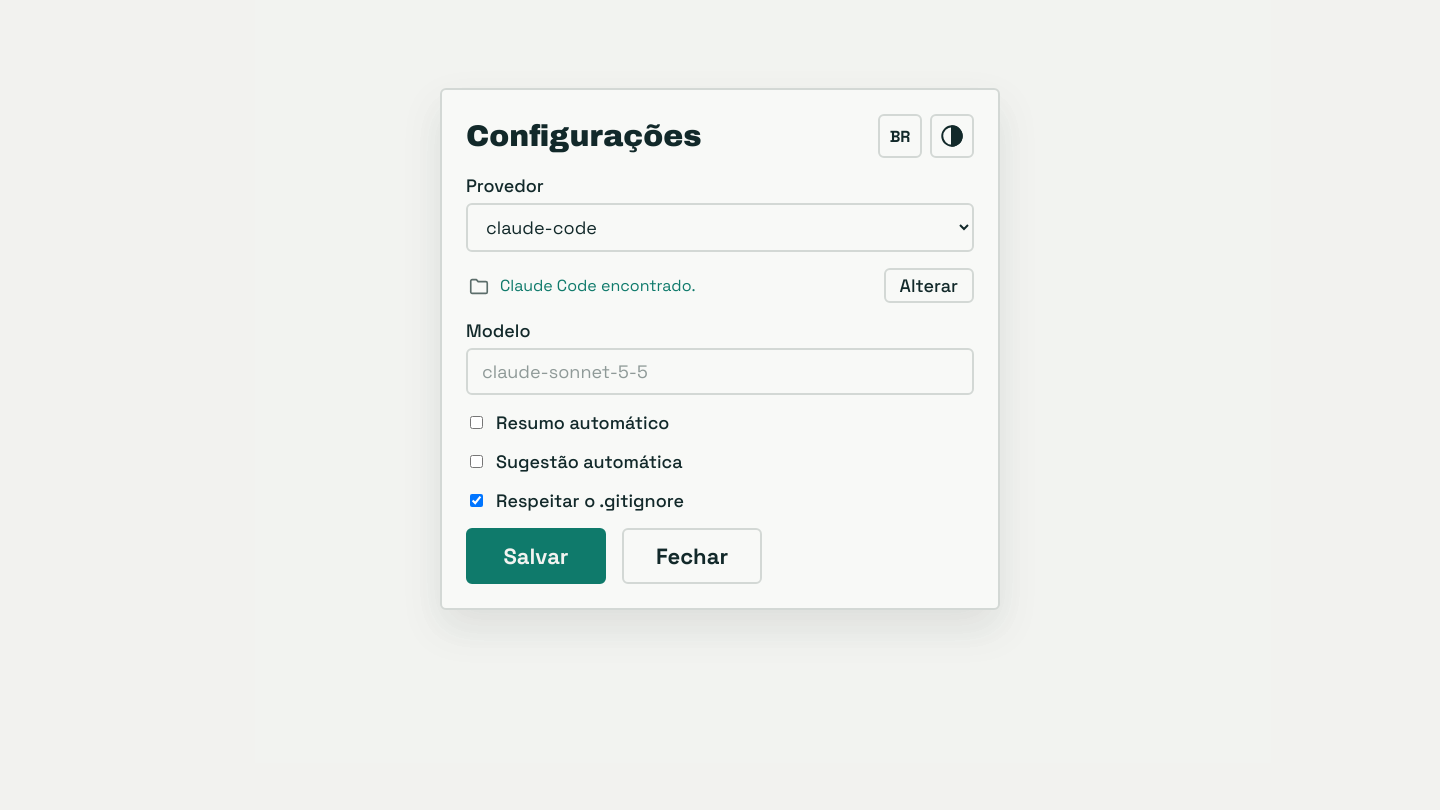
Scenario: SettingsDialog: where Claude Code is (CC-17, CC-18) › shows nothing about Claude Code for another provider
Step 1. Select "openrouter" in the dropdown labelled "Provedor" → (720, 228), box [466,203,974,252]
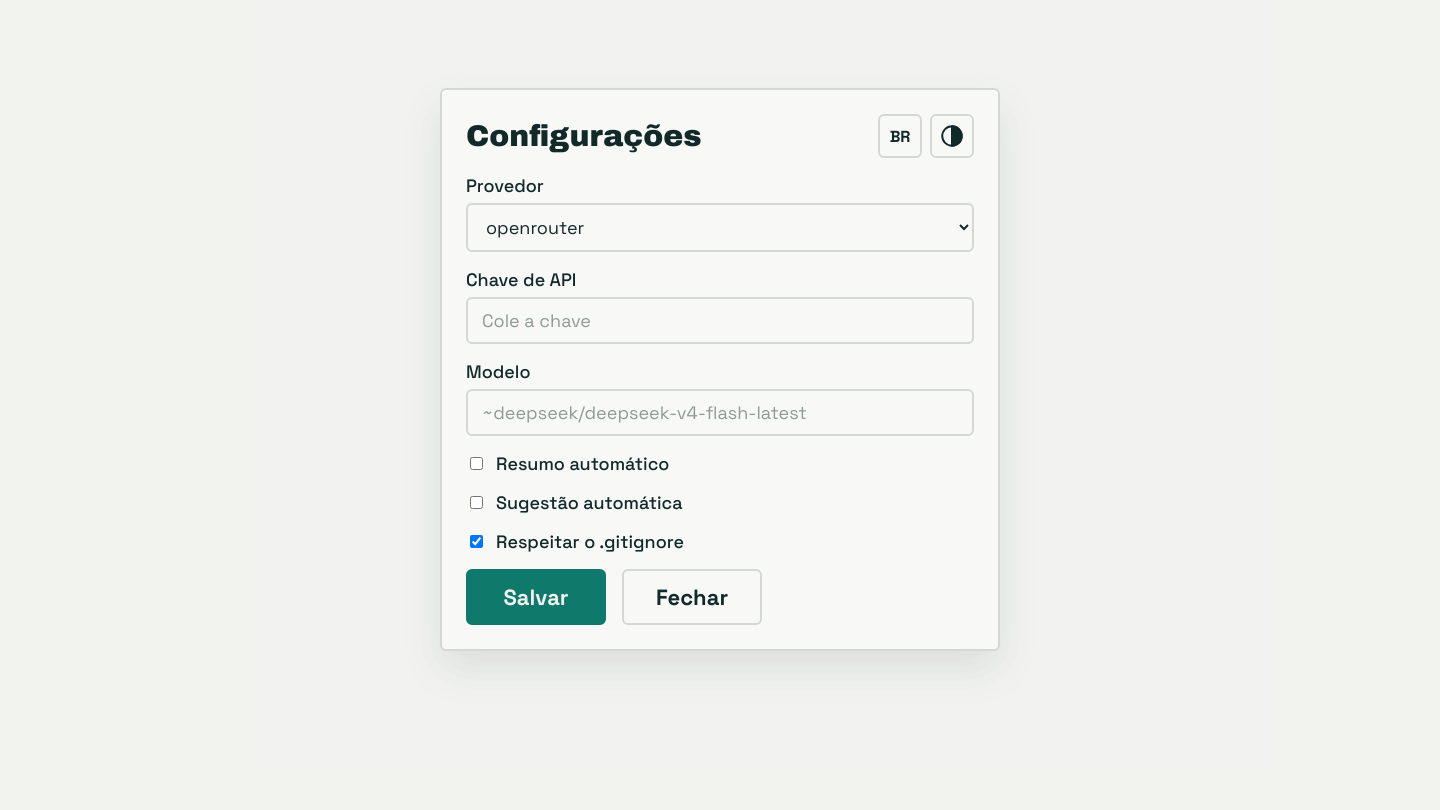
Expected: the text "Claude Code encontrado." is gone
Expected: the button "Alterar" is gone
